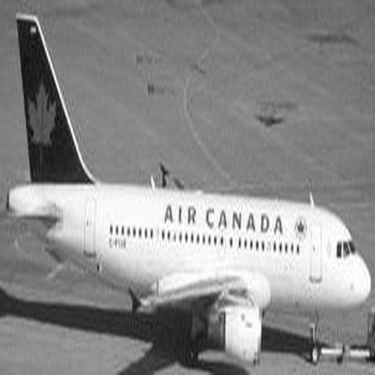airplane: (6, 1, 371, 369)
